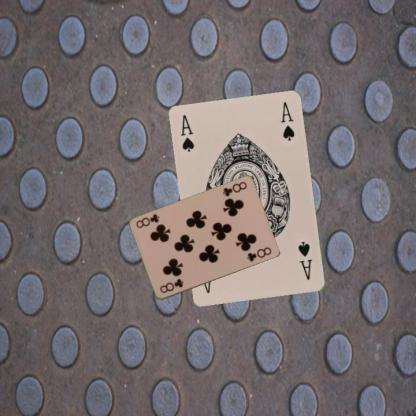8c: (220, 179, 248, 198), (157, 276, 185, 294)
As: (295, 240, 314, 282), (178, 112, 196, 154)
